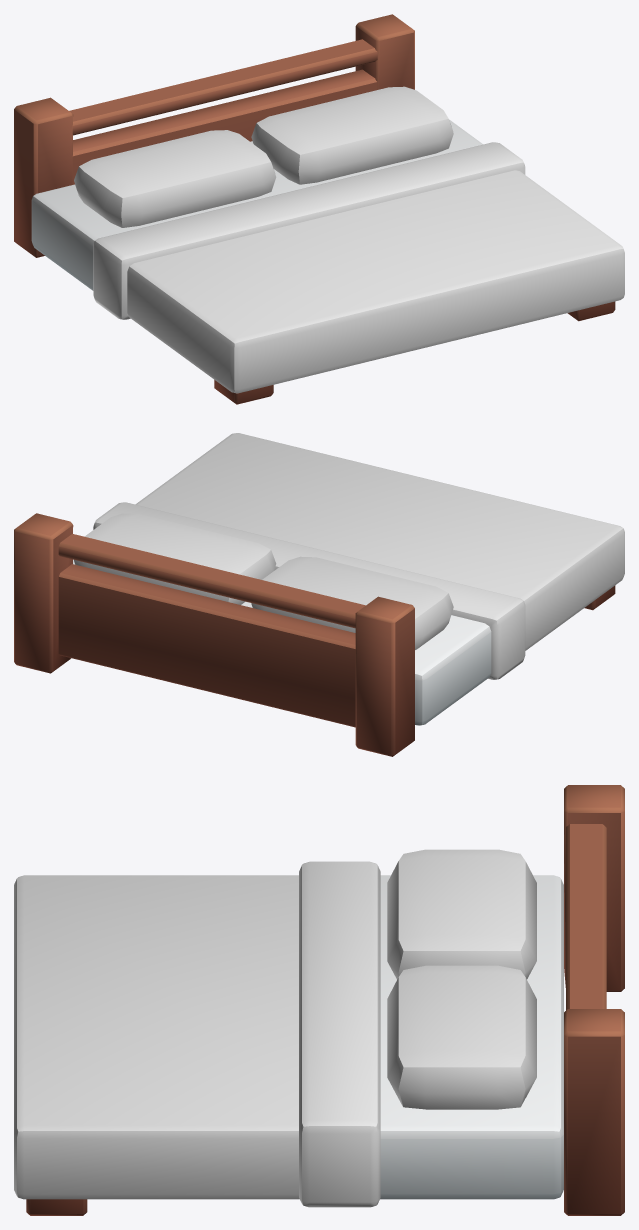
Rendered from bedDoubleA.glb.
3 views of the same model, one above another, from view 1: azimuth 30°, elevation 25°; view 2: azimuth 150°, elevation 25°; view 3: azimuth 270°, elevation 25° (orthographic). The views are drawn at different scales.
Visible parts, largest first — view 1: bedDoubleA_colourA, bedDoubleA_colourB, bedDoubleA, bedDoubleA_base_white; view 2: bedDoubleA, bedDoubleA_colourA, bedDoubleA_colourB, bedDoubleA_base_white; view 3: bedDoubleA_colourA, bedDoubleA_colourB, bedDoubleA, bedDoubleA_base_white.
Boxes of the visible parts, x1,y1,x2,y2 form: bedDoubleA_colourA: [93, 142, 624, 393]; bedDoubleA_colourB: [74, 86, 453, 227]; bedDoubleA: [14, 14, 615, 404]; bedDoubleA_base_white: [31, 119, 483, 290]; bedDoubleA: [14, 513, 615, 756]; bedDoubleA_colourA: [93, 433, 624, 679]; bedDoubleA_colourB: [74, 513, 453, 649]; bedDoubleA_base_white: [73, 559, 491, 725]; bedDoubleA_colourA: [14, 861, 380, 1207]; bedDoubleA_colourB: [387, 849, 536, 1109]; bedDoubleA: [26, 785, 624, 1215]; bedDoubleA_base_white: [380, 875, 563, 1199].
Size of the model in its own units: 2.9 by 0.9345 by 2.8.
4 materials, 2 textured.
